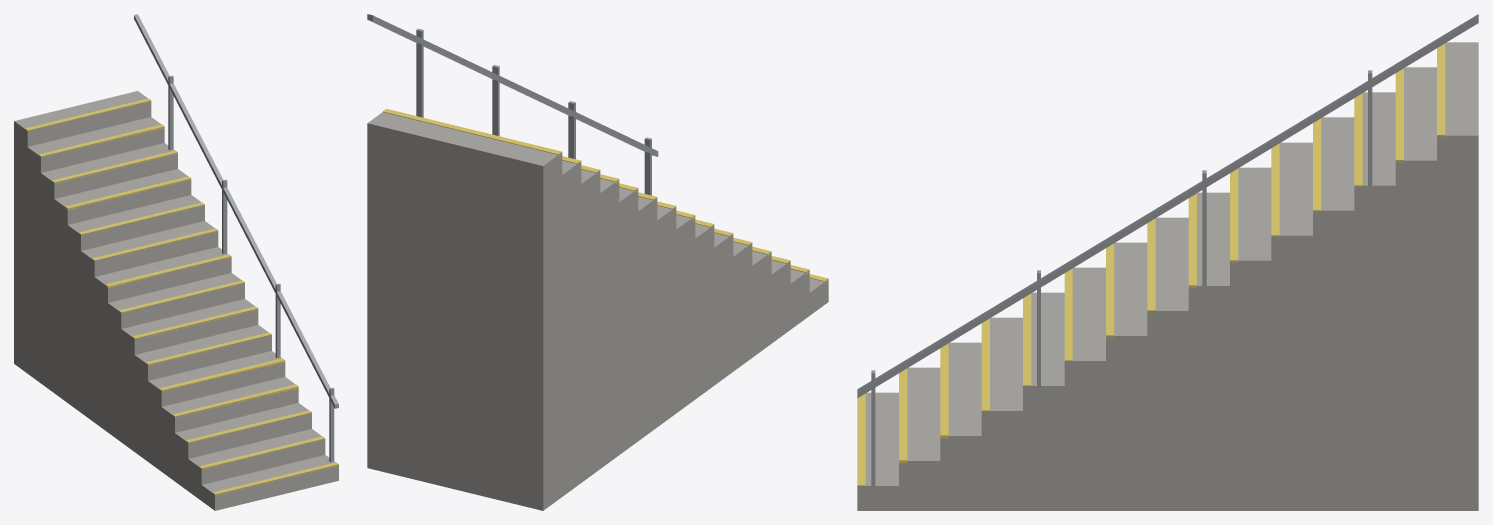
Rendered from kit_stairs.glb.
The picture shows the model from 3 angles, left to right: view 1: azimuth 30°, elevation 25°; view 2: azimuth 150°, elevation 25°; view 3: azimuth 270°, elevation 25°; orthographic projection. The views are drawn at different scales.
Parts seen in each view (by area): view 1: kit_stairs; view 2: kit_stairs; view 3: kit_stairs.
Part boxes in pixels (x1,y1,x2,y2): kit_stairs: (14, 14, 338, 510); kit_stairs: (367, 14, 828, 510); kit_stairs: (857, 14, 1478, 510).
Bounding box in the file's own units: 1.6 × 3.95 × 4.5.
